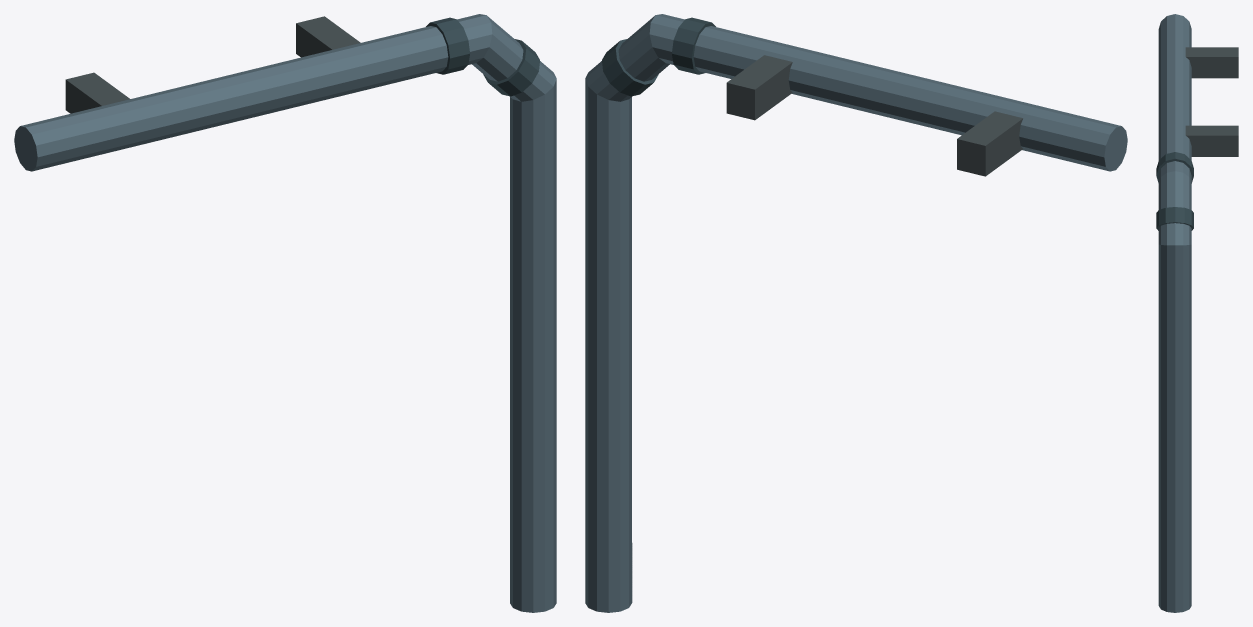
Rendered from WaterworksLower_ReturnPipe.fbx.
The picture shows the model from 3 angles, left to right: view 1: azimuth 30°, elevation 25°; view 2: azimuth 150°, elevation 25°; view 3: azimuth 270°, elevation 25°; orthographic projection. The views are drawn at different scales.
Parts seen in each view (by area): view 1: WaterworksLower_ReturnPipe; view 2: WaterworksLower_ReturnPipe; view 3: WaterworksLower_ReturnPipe.
Boxes of the visible parts, x1,y1,x2,y2 form: WaterworksLower_ReturnPipe: (14, 14, 556, 612); WaterworksLower_ReturnPipe: (585, 14, 1127, 612); WaterworksLower_ReturnPipe: (1156, 14, 1238, 612).
Bounding box in the file's own units: 2 × 2.18 × 0.3861.
